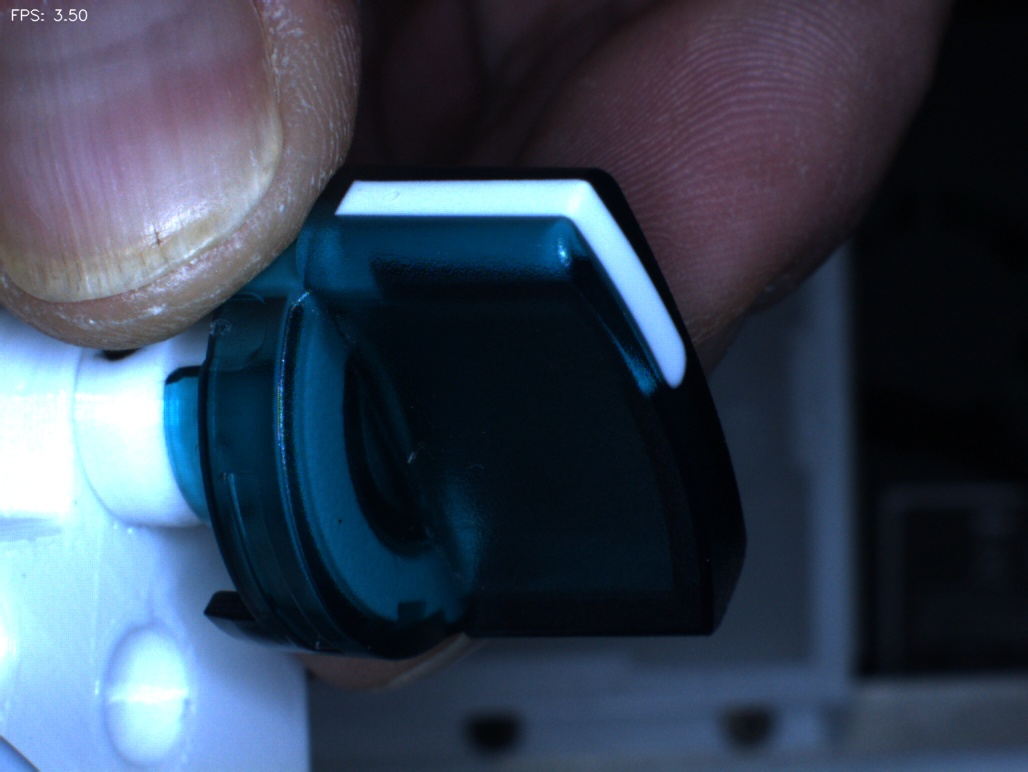PointNoir: (308, 487, 374, 553)
